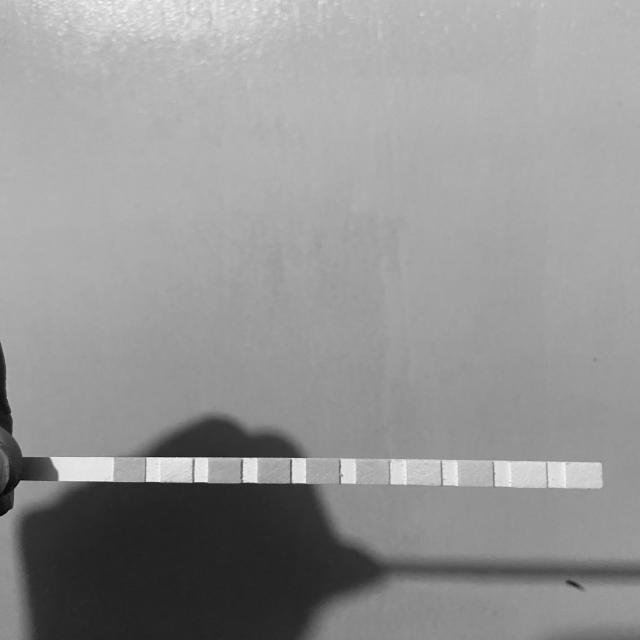Bilirubin: (162, 458, 193, 482)
Blood: (306, 459, 339, 484)
Glucose: (114, 458, 144, 482)
Ketone: (209, 458, 241, 483)
Leukocytes: (566, 463, 602, 488)
Nitrite: (511, 462, 547, 487)
Protein: (407, 460, 441, 485)
SpGravity: (258, 458, 290, 484)
Urobilinogen: (458, 460, 494, 486)
background: (0, 0, 640, 640)
pH: (356, 460, 390, 484)
strip: (27, 458, 603, 489)
